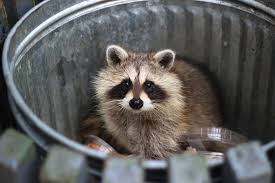raccoon: (91, 41, 213, 153)
